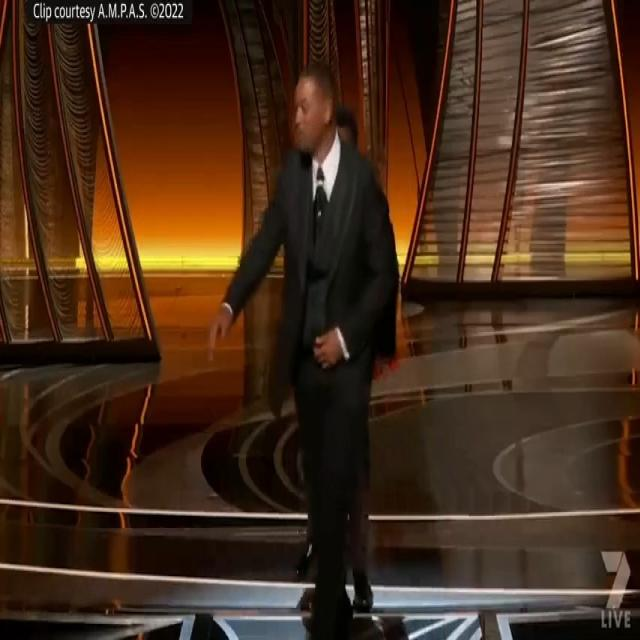non-fight: (206, 52, 400, 640)
